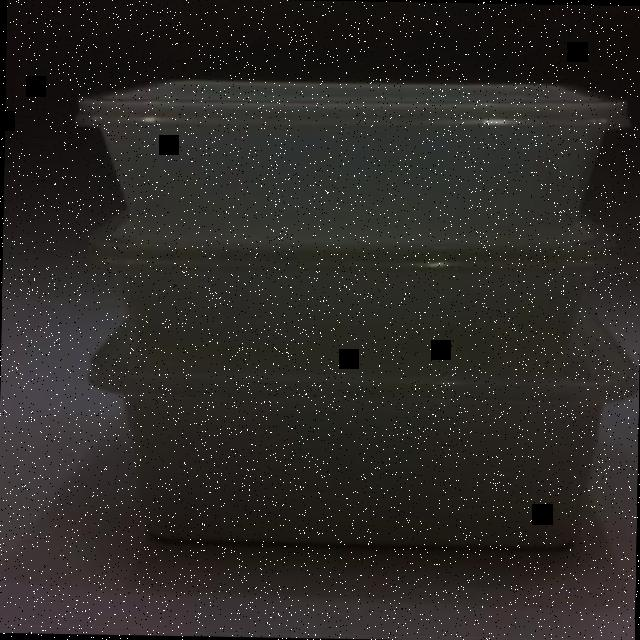plastic_box: (80, 296, 634, 553), (87, 198, 620, 388), (74, 78, 627, 254)
